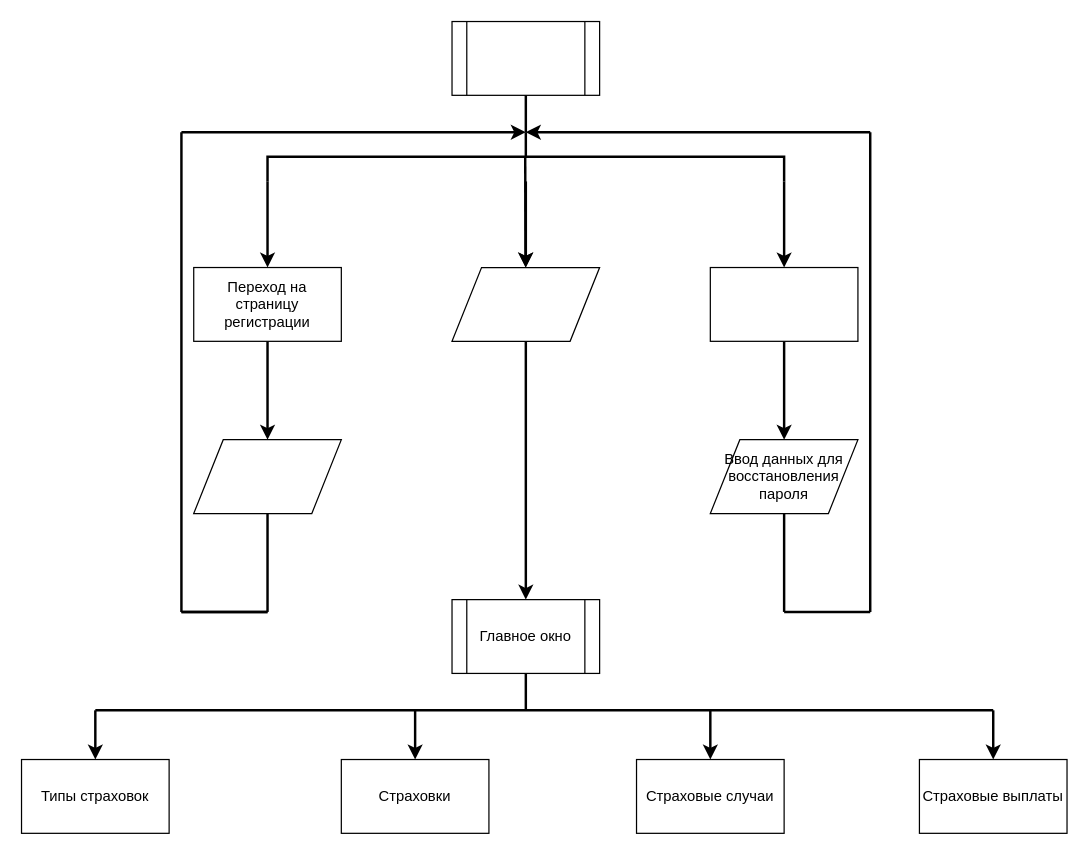
This 1089x855 diagram has some shape labels left out. The box of each missing label's shape, as (x1, y1, x2, y2) in pixels:
Ввод данных для входа: (451, 266, 600, 341)
Ввод данных для регистрации: (192, 438, 341, 514)
Вход в приложение: (451, 20, 600, 95)
Переход на страницу восстановления пароля: (709, 266, 858, 341)
